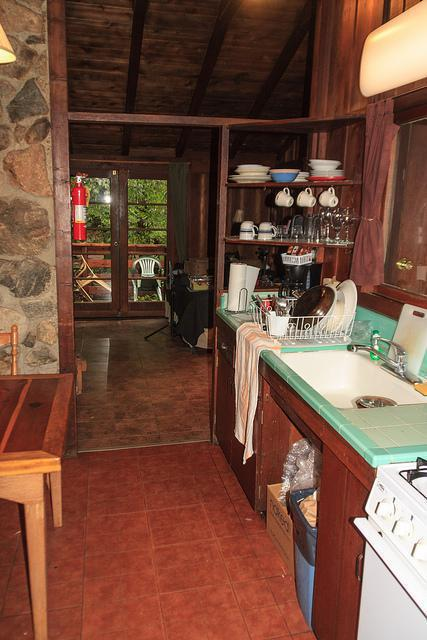Bote de Basura: (281, 478, 355, 633)
Lavaplatos: (269, 337, 426, 420)
